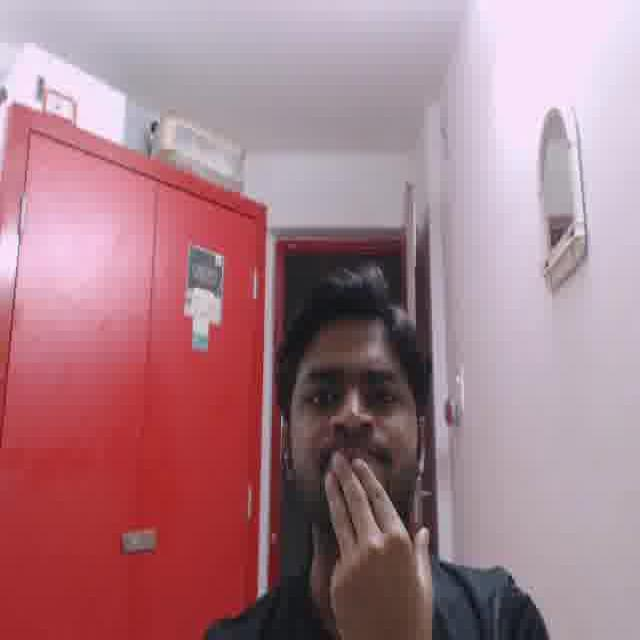Confusion: (291, 327, 404, 504)
